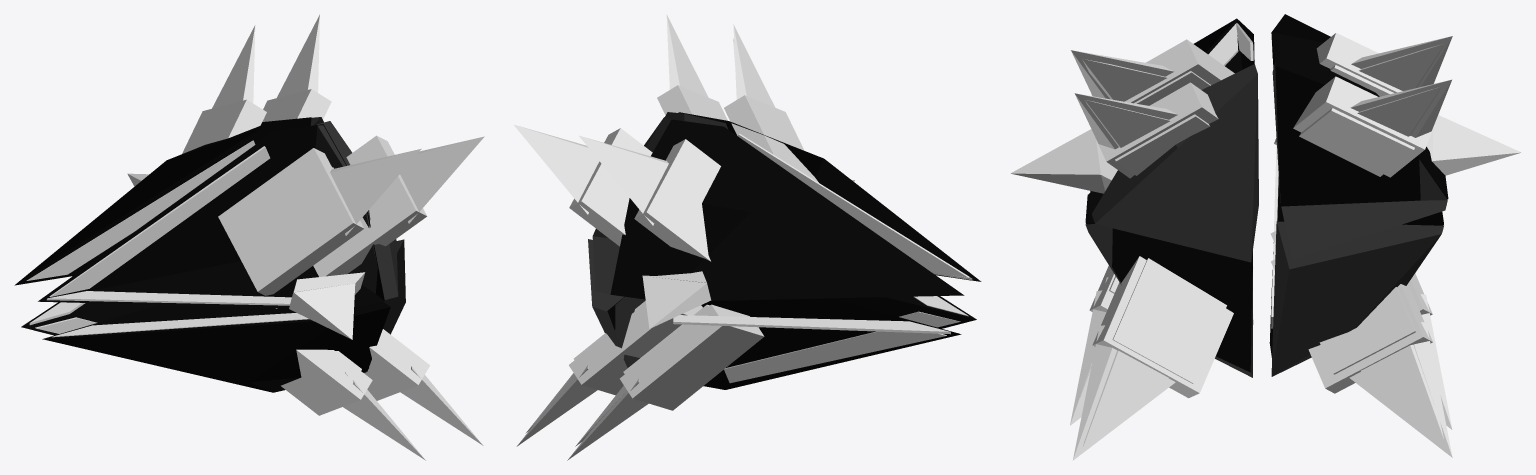
Rendered from enemy (1).fbx.
3 views of the same model, side by side, from view 1: azimuth 30°, elevation 25°; view 2: azimuth 150°, elevation 25°; view 3: azimuth 270°, elevation 25° (orthographic). The views are drawn at different scales.
Visible parts, largest first — view 1: Cube.026, Cube.027, Cube.037, Cube.036; view 2: Cube.037, Cube.036, Cube.026, Cube.027; view 3: Cube.026, Cube.037, Cube.036, Cube.027.
Part boxes in pixels (box(x1,y1,x2,y2)): Cube.026: box(38, 121, 484, 339); Cube.027: box(42, 239, 483, 460); Cube.037: box(14, 14, 331, 285); Cube.036: box(21, 302, 157, 335); Cube.037: box(514, 117, 964, 328); Cube.036: box(516, 239, 961, 460); Cube.026: box(657, 14, 981, 281); Cube.027: box(831, 296, 976, 328); Cube.026: box(1010, 18, 1258, 262); Cube.037: box(1271, 14, 1521, 259); Cube.036: box(1269, 145, 1452, 457); Cube.027: box(1070, 193, 1253, 460).
Size of the model in its own units: 287 by 233 by 279.
Materials: 21 (1 with a texture image).
